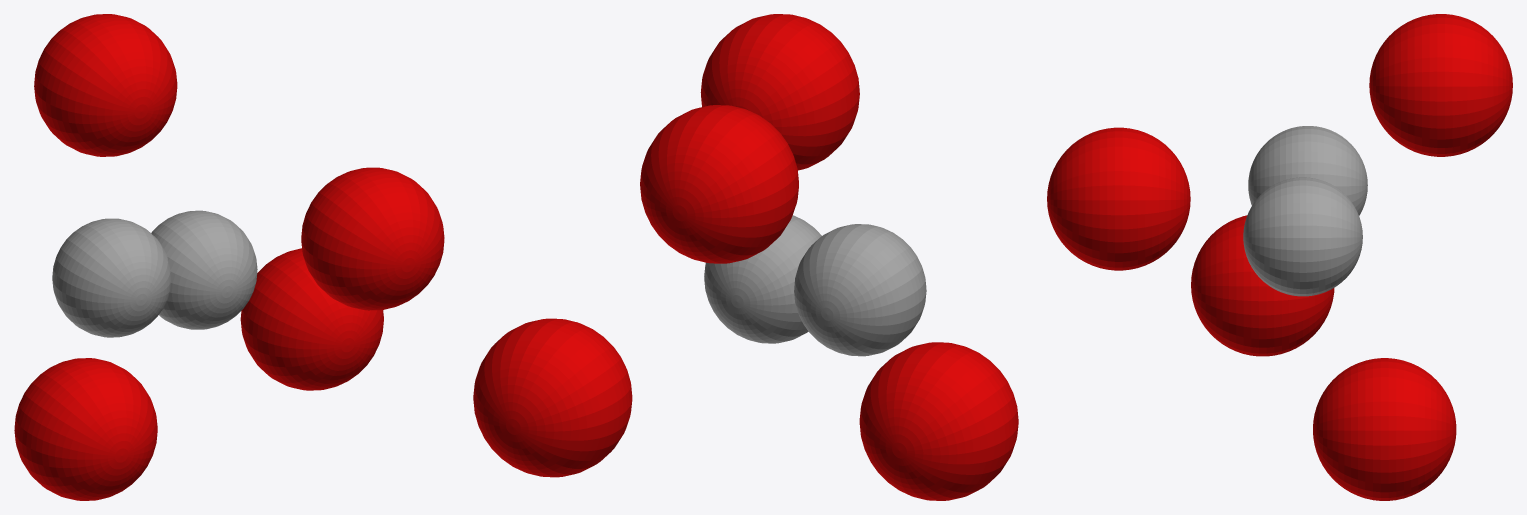
The model's file is Potassium Permanganate.glb.
The picture shows the model from 3 angles, left to right: view 1: azimuth 30°, elevation 25°; view 2: azimuth 150°, elevation 25°; view 3: azimuth 270°, elevation 25°; orthographic projection. The views are drawn at different scales.
Parts seen in each view (by area): view 1: world; view 2: world; view 3: world.
Boxes of the visible parts, left/top/right/bottom form: world: left=14, top=14, right=444, bottom=500; world: left=473, top=14, right=1018, bottom=500; world: left=1047, top=14, right=1512, bottom=500.
Bounding box in the file's own units: 3.97 × 3.56 × 3.89.
